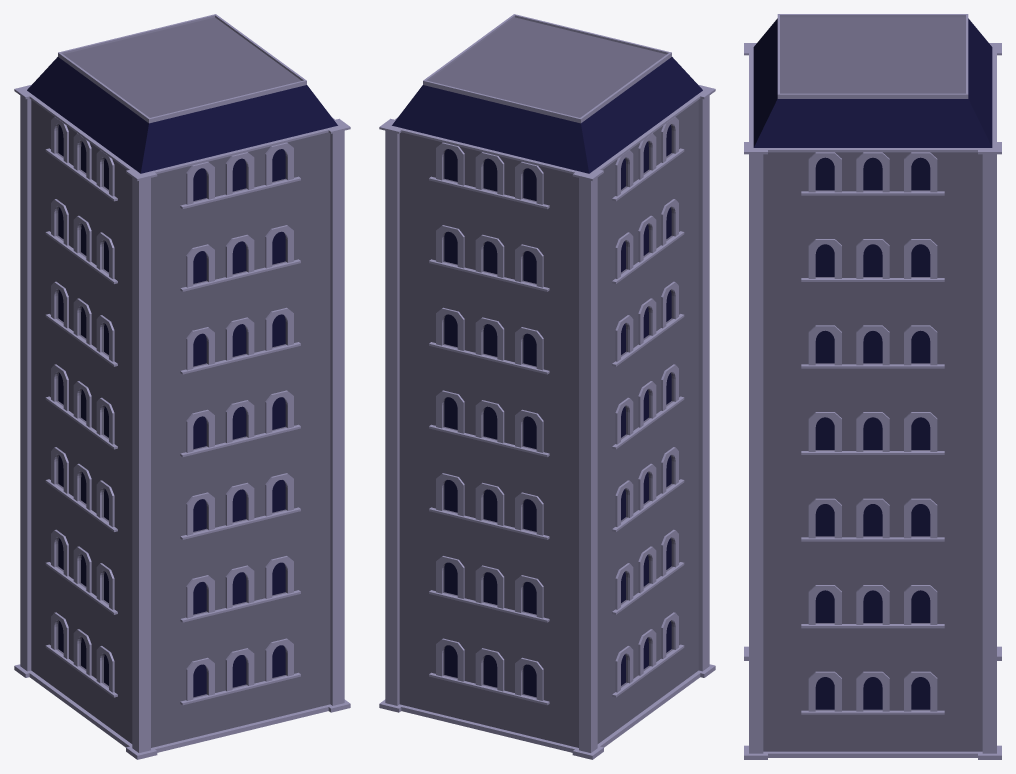
File: house v6.006.fbx
The picture shows the model from 3 angles, left to right: view 1: azimuth 30°, elevation 25°; view 2: azimuth 150°, elevation 25°; view 3: azimuth 270°, elevation 25°; orthographic projection. The views are drawn at different scales.
Parts seen in each view (by area): view 1: Building; view 2: Building; view 3: Building.
Part boxes in pixels (<box>): Building: <box>14,14,350,759</box>; Building: <box>379,14,715,759</box>; Building: <box>744,14,1001,759</box>.
Bounding box in the file's own units: 540 × 540 × 1505.
